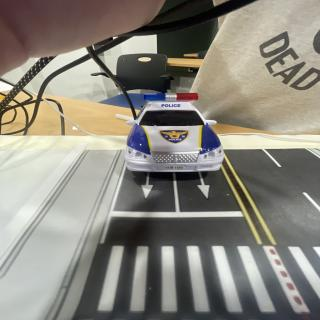Police_car: (125, 93, 224, 172)
